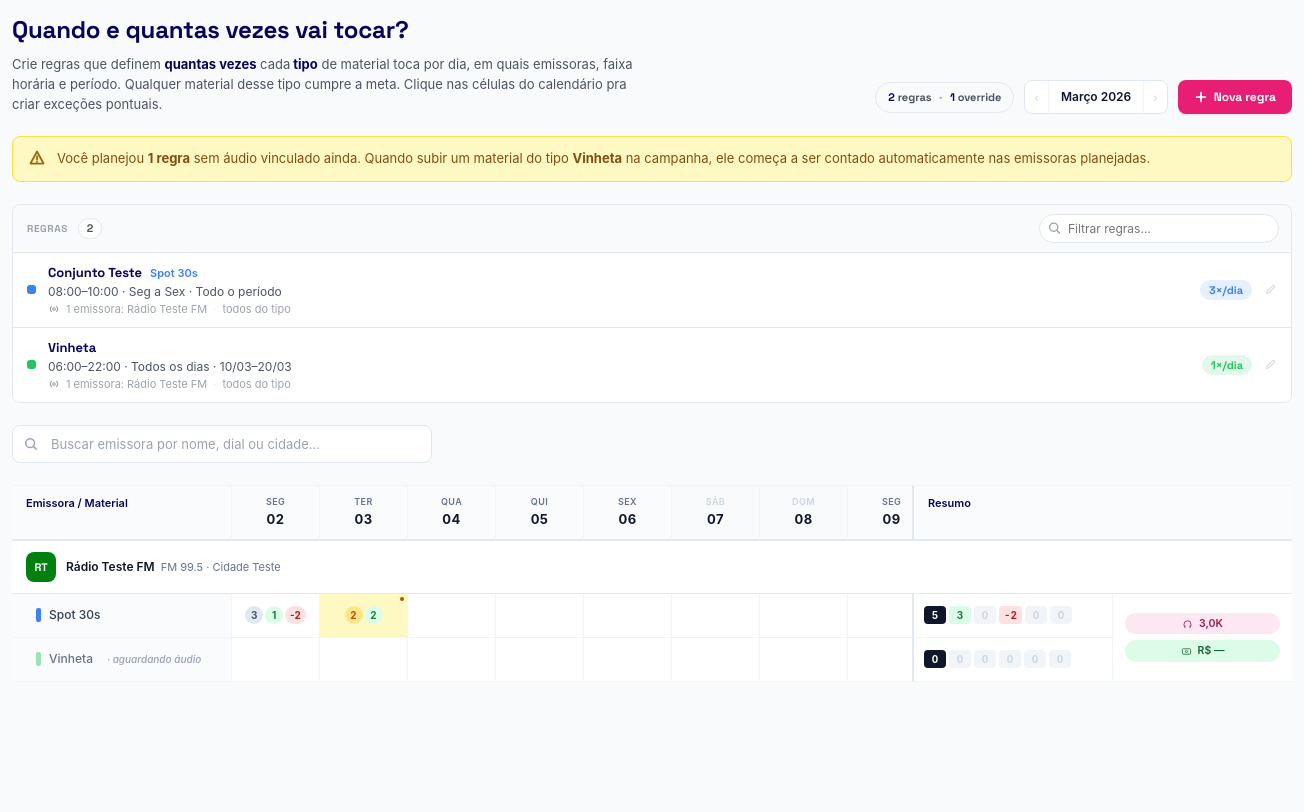
Test: DistributionStep — filtros › filtrar regras: "n de total", sem resultado e limpar
This screenshot has width=1304, height=812.
expect the heading "Quando e quantas vezes vai tocar?" is shown: met, box [12,14,409,45]
expect the text "Conjunto Teste" is shown: met, box [48,264,142,281]
Type "vinheta" into the field with placeholder "Filtrar regras…" at (1159, 228), box [1039,214,1279,243]
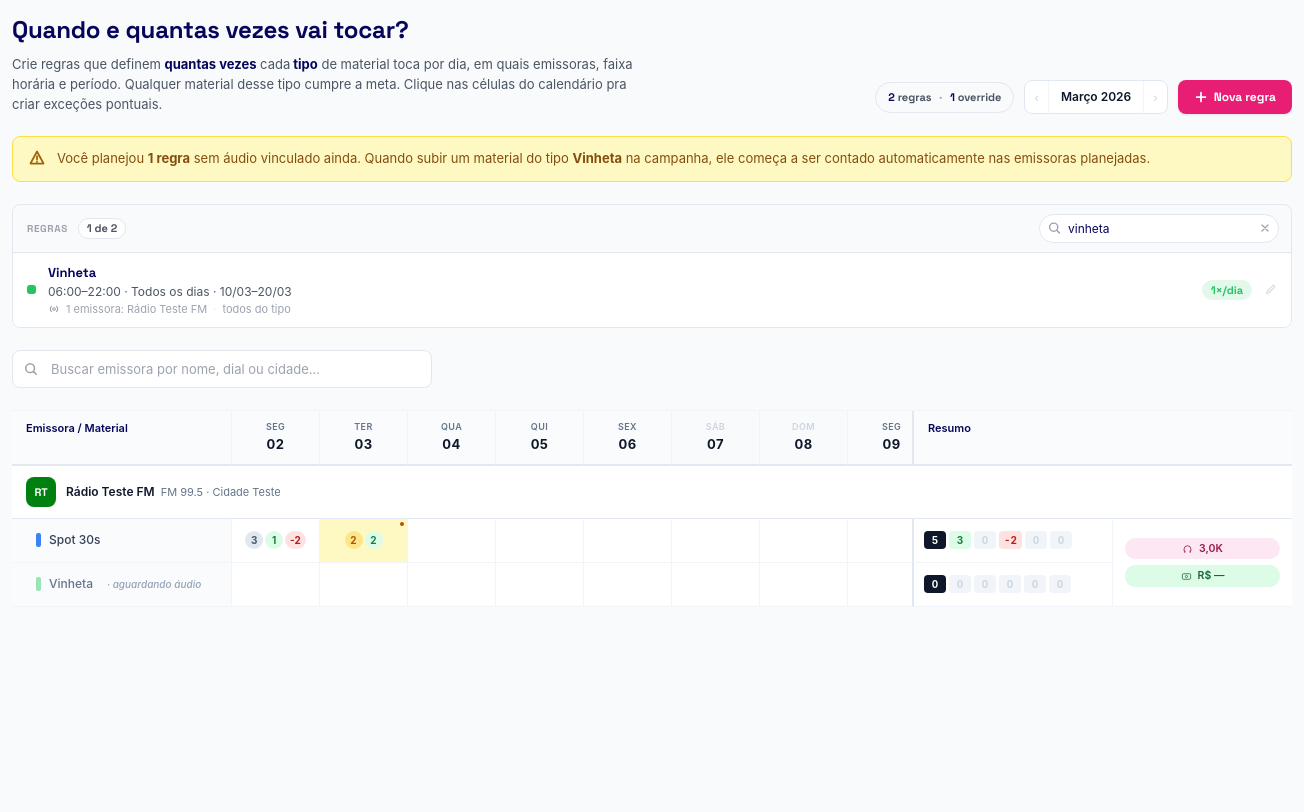
expect the text "1 de 2" is shown: met, box [78,218,126,239]
expect the button "Conjunto Teste" is gone: met
Replace the text in the field named "Filtrar regras" with "zzzz" at (1159, 228), box [1039,214,1279,243]
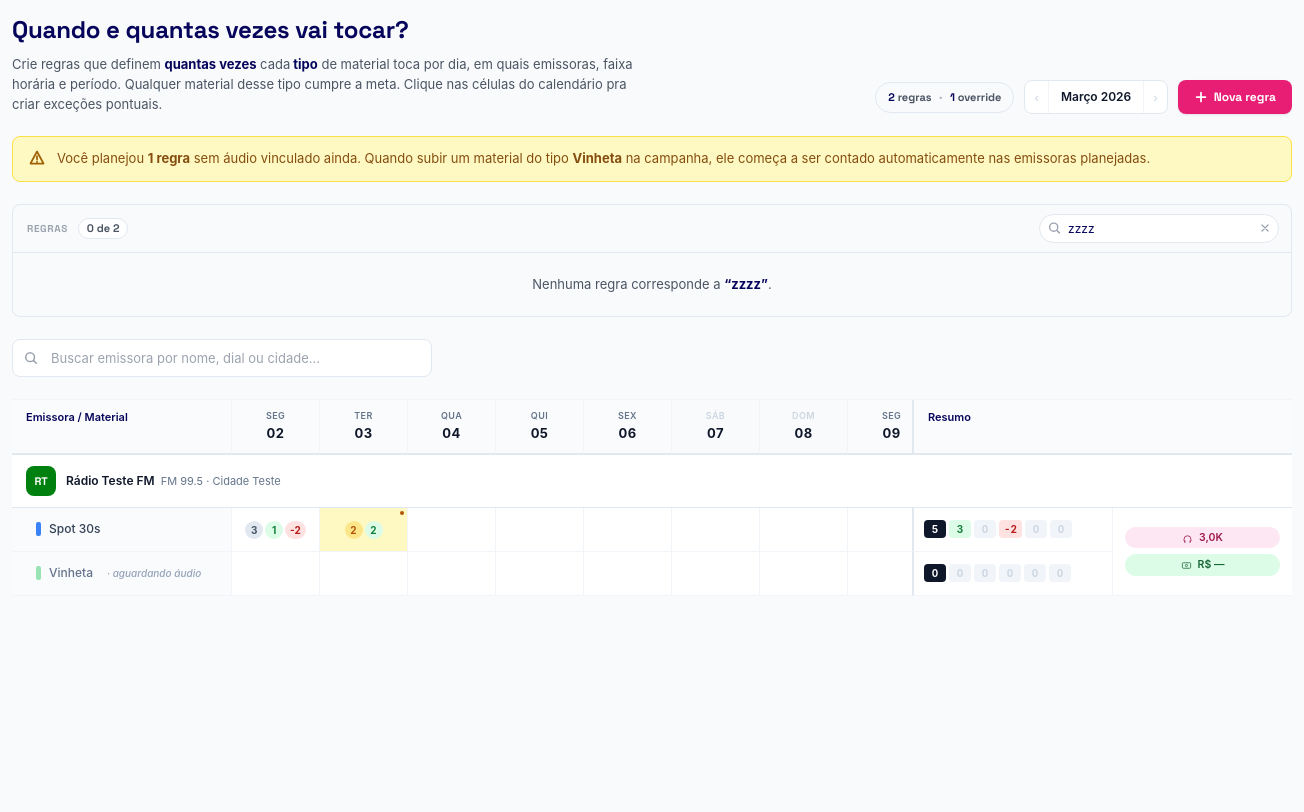
expect the text "Nenhuma regra corresponde a “zzzz”." is shown: met, box [532,276,772,292]
Click the button named "Limpar filtro" at (1265, 228), box [1257,220,1273,236]
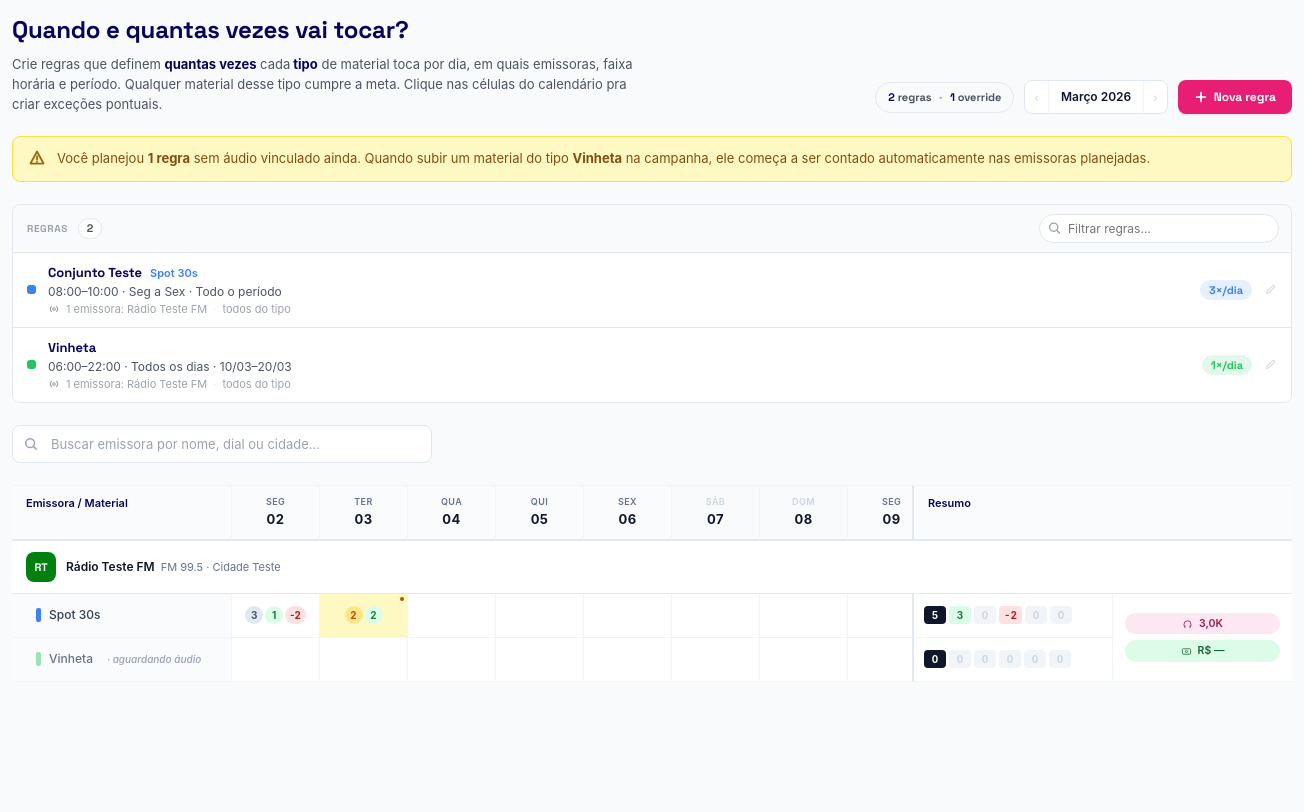
expect the text "Conjunto Teste" is shown: met, box [48,264,142,281]
